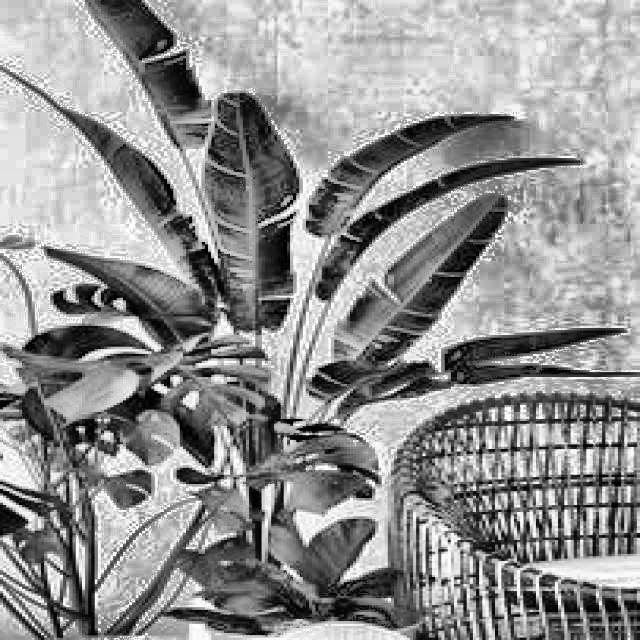plants: (6, 2, 413, 638)
